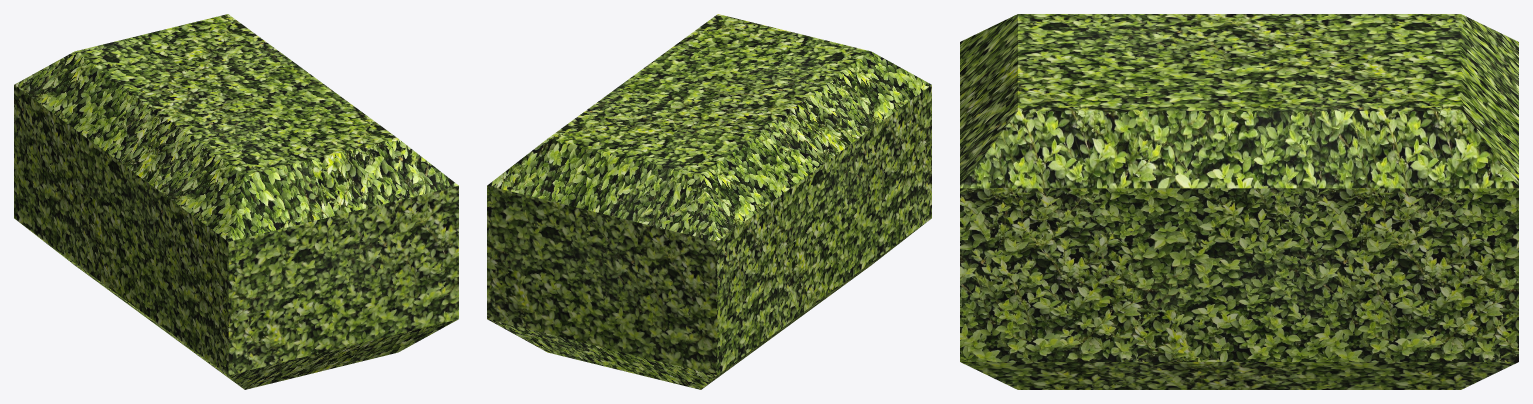
The model's file is Bush.fbx.
3 renders of one model, left to right at view 1: azimuth 30°, elevation 25°; view 2: azimuth 150°, elevation 25°; view 3: azimuth 270°, elevation 25°, orthographic. The views are drawn at different scales.
Visible parts, largest first — view 1: Bush; view 2: Bush; view 3: Bush.
Part boxes in pixels (<box>): Bush: <box>14,14,458,389</box>; Bush: <box>487,14,931,389</box>; Bush: <box>960,14,1518,389</box>.
Bounding box in the file's own units: 124 × 110 × 200.
